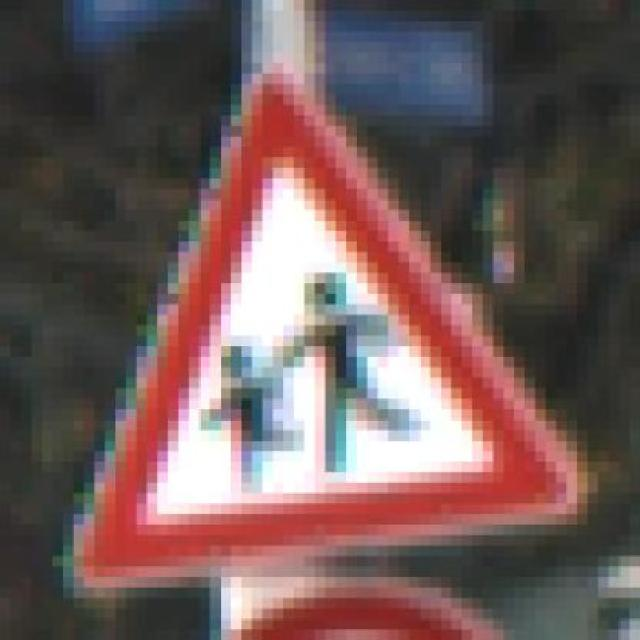Beware of children: (52, 63, 598, 577)
